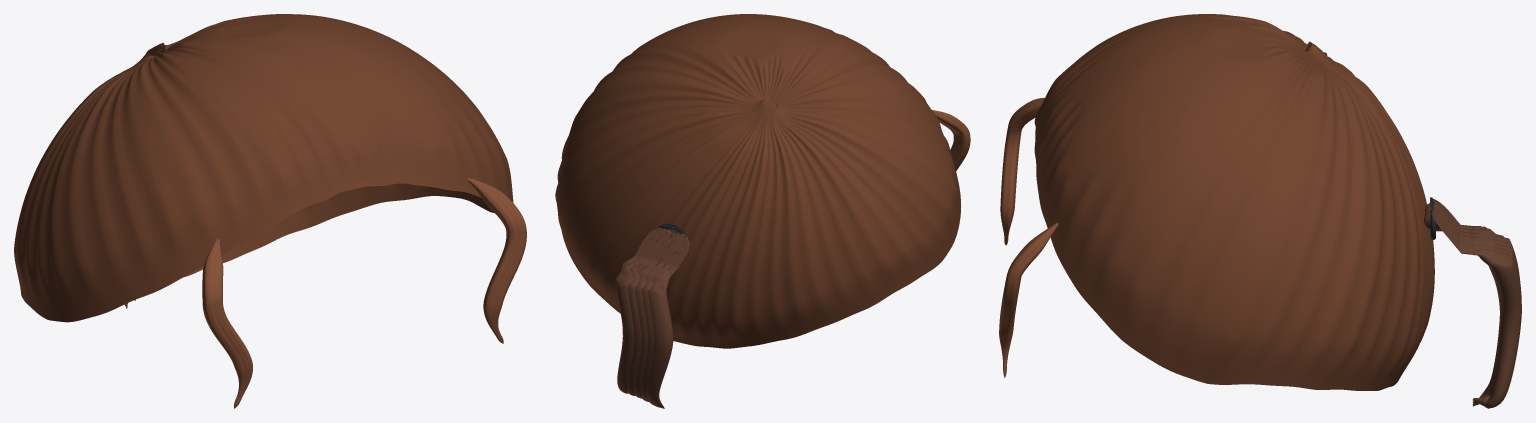
Rendered from Feminine-ponytail-bucket251-hair.glb.
The picture shows the model from 3 angles, left to right: view 1: azimuth 30°, elevation 25°; view 2: azimuth 150°, elevation 25°; view 3: azimuth 270°, elevation 25°; orthographic projection. The views are drawn at different scales.
Parts seen in each view (by area): view 1: 226 hair / Hair / crisp pulled roots220.002, 226 hair / Hair / sculpted front locks222.002; view 2: 226 hair / Hair / crisp pulled roots220.002, 226 hair / Hair / chestnut226.001, 226 hair / Hair / sculpted front locks222.002; view 3: 226 hair / Hair / crisp pulled roots220.002, 226 hair / Hair / chestnut226.001, 226 hair / Hair / sculpted front locks222.002.
Boxes of the visible parts, x1,y1,x2,y2 form: 226 hair / Hair / crisp pulled roots220.002: (14,14,513,322); 226 hair / Hair / sculpted front locks222.002: (202,177,526,408); 226 hair / Hair / crisp pulled roots220.002: (555,14,961,348); 226 hair / Hair / chestnut226.001: (615,228,689,408); 226 hair / Hair / sculpted front locks222.002: (932,110,970,171); 226 hair / Hair / crisp pulled roots220.002: (1034,14,1434,390); 226 hair / Hair / chestnut226.001: (1424,199,1521,408); 226 hair / Hair / sculpted front locks222.002: (999,98,1058,377).
Size of the model in its own units: 0.9675 by 0.7594 by 0.9676.
